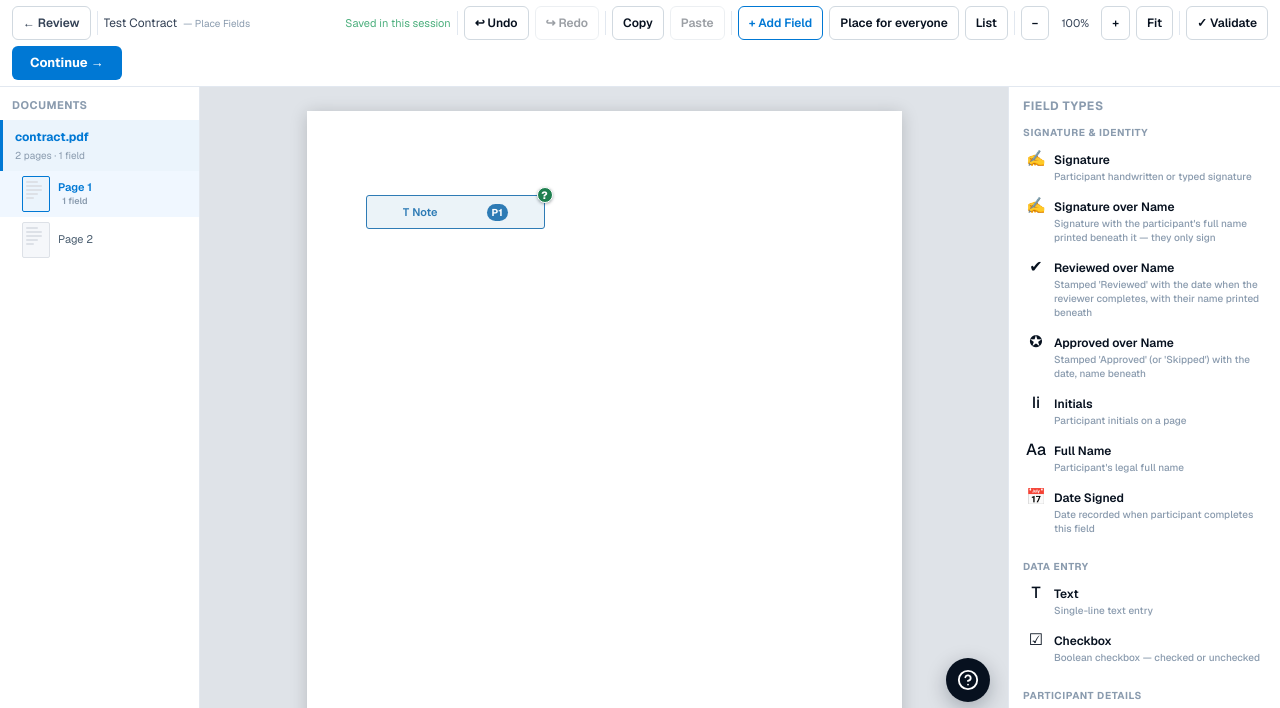
Test: first-arrival auto-placement › waits for the saved-field load, and stands down when the server already had fields
Click the button with aria-label "show field list" at coordinates (986, 23), box [965, 6, 1008, 40]
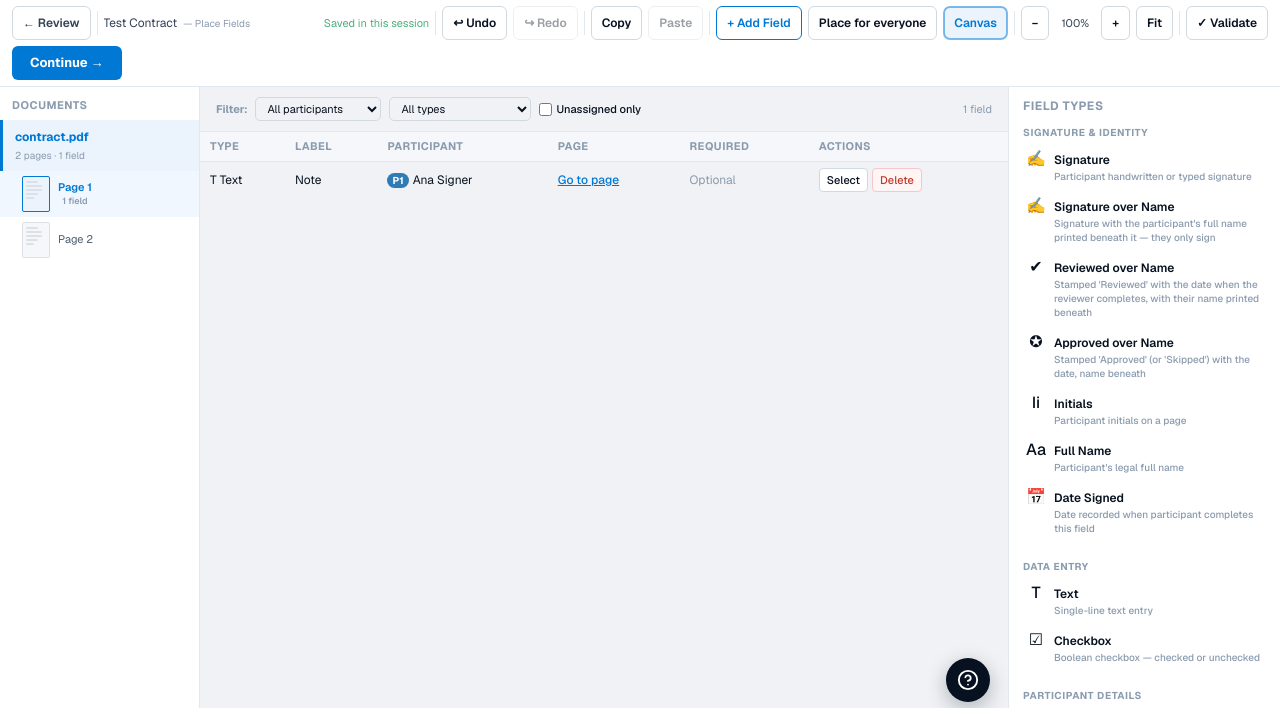
Expected: the table named "field list" does not show "Signature over Name", [200, 132, 1008, 199]
Now the table named "field list" shows "Note", box [295, 172, 322, 188]
